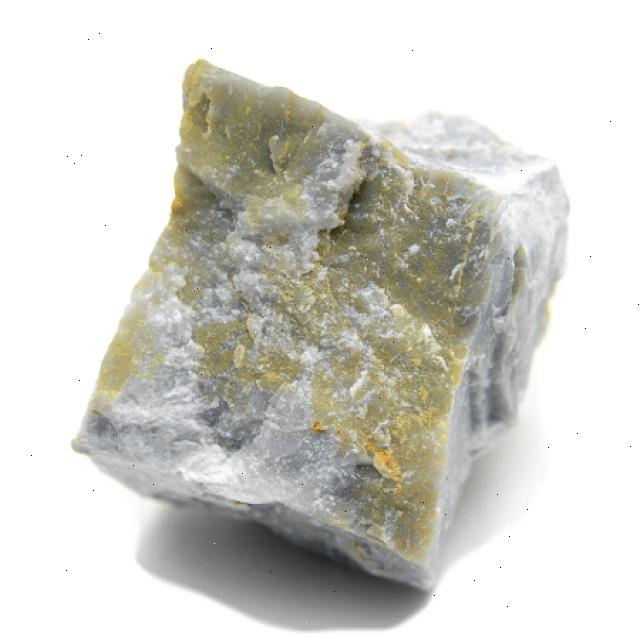Sedimentary: (85, 52, 579, 585)
